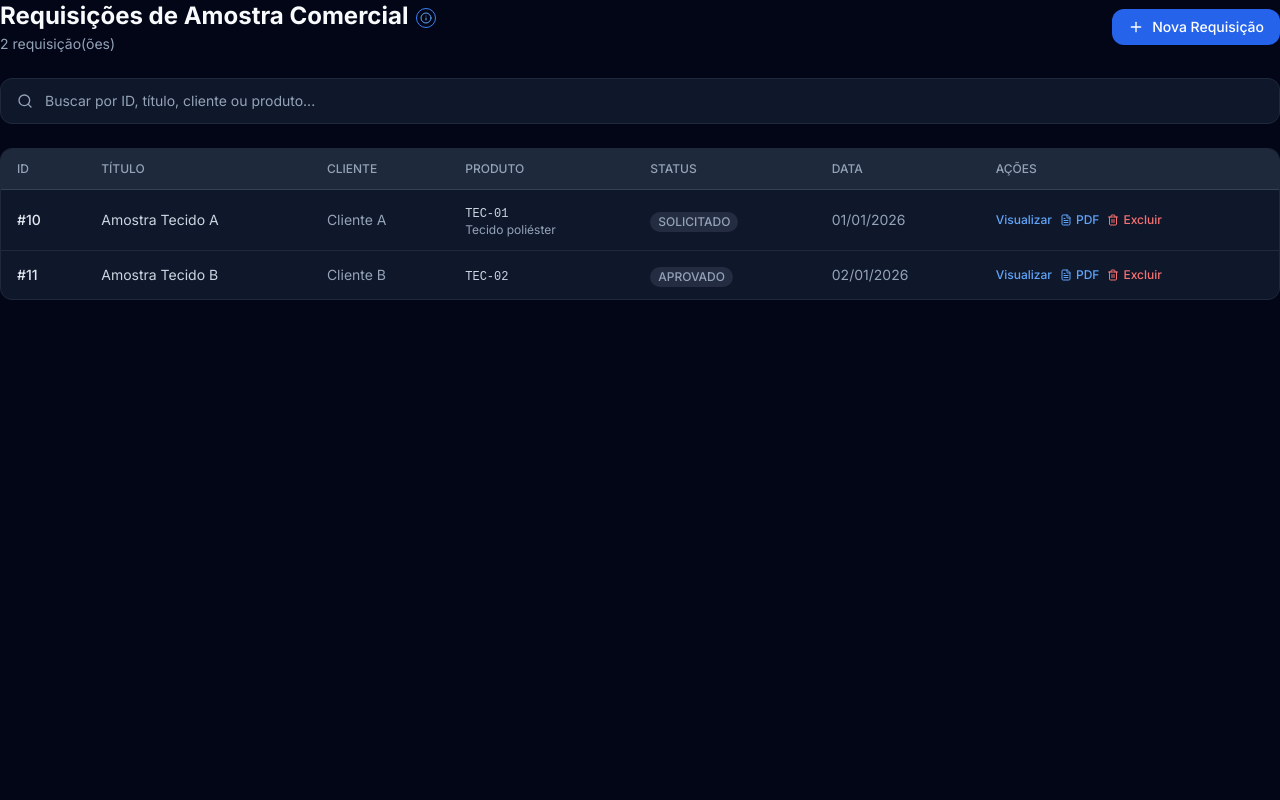
ListaRequisicoesAmostraComercialPage › exclui uma requisição através do modal de confirmação
Check: the text "Amostra Tecido A" is shown, box [85, 190, 311, 250]
Click the button "Excluir" in the row of "10".
click(1135, 220)  # box [1107, 212, 1162, 228]
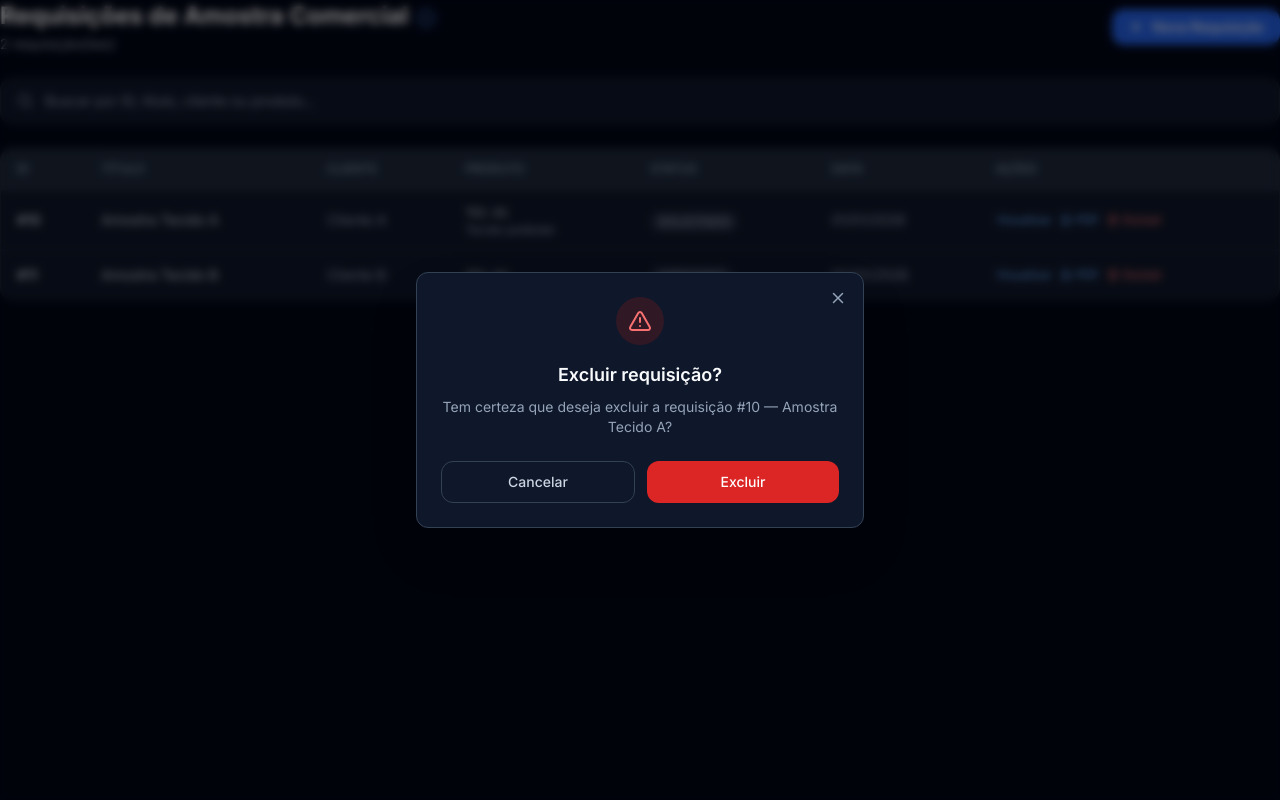
Click the button "Excluir".
click(743, 482)  # box [647, 461, 839, 503]
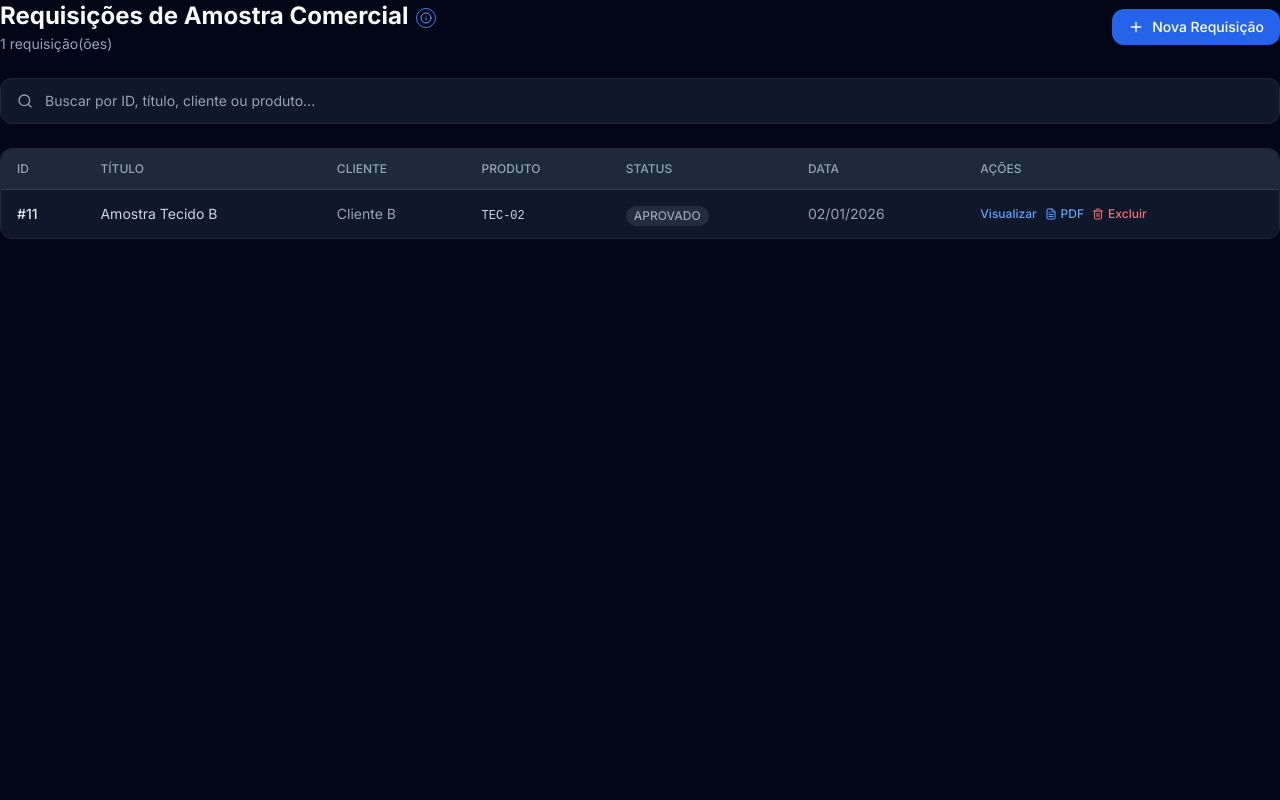
Check: the text "Amostra Tecido A" is gone
